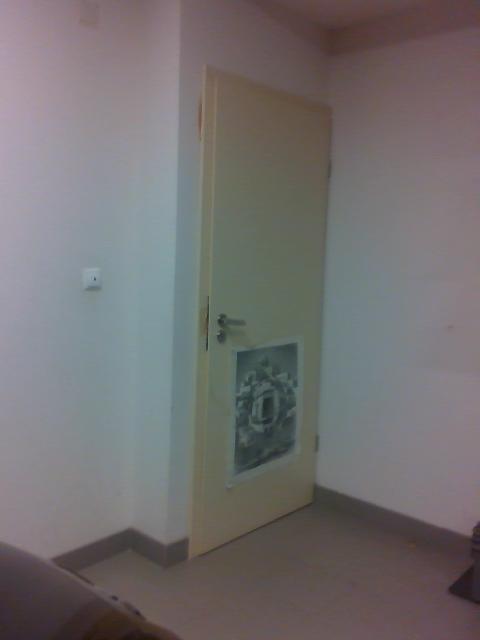closed: (185, 70, 331, 559)
